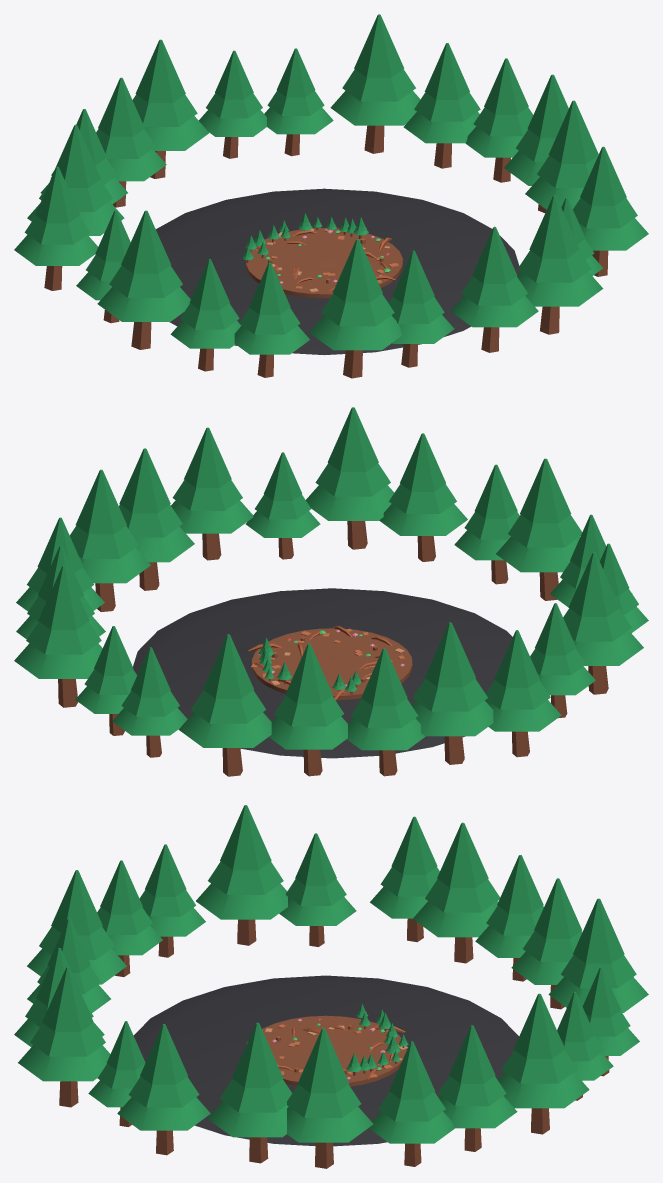
File: root_lurker.glb
3 views of the same model, one above another, from view 1: azimuth 30°, elevation 25°; view 2: azimuth 150°, elevation 25°; view 3: azimuth 270°, elevation 25° (orthographic). The views are drawn at different scales.
Visible parts, largest first — view 1: RootLurkerGround; view 2: RootLurkerGround; view 3: RootLurkerGround.
Boxes of the visible parts, x1,y1,x2,y2 form: RootLurkerGround: (14,14,648,378); RootLurkerGround: (14,407,648,776); RootLurkerGround: (14,805,648,1168).
Size of the model in its own units: 45.75 by 11.96 by 47.01.
Materials: 1 (1 with a texture image).
